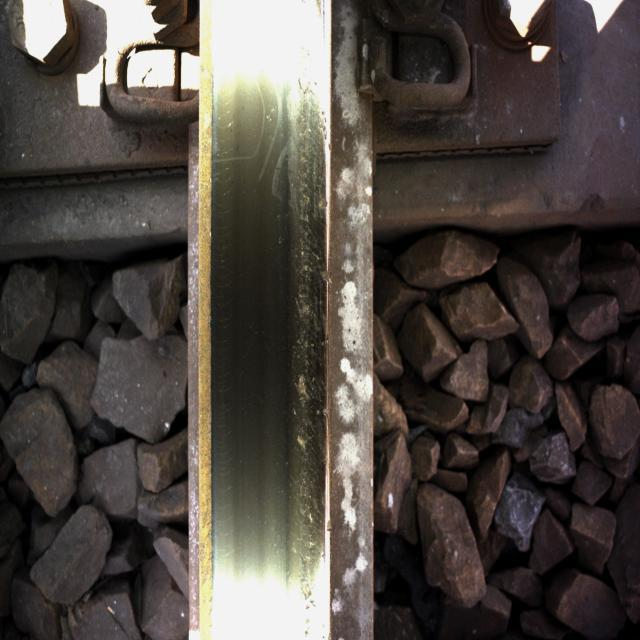normal: (222, 36, 326, 562)
